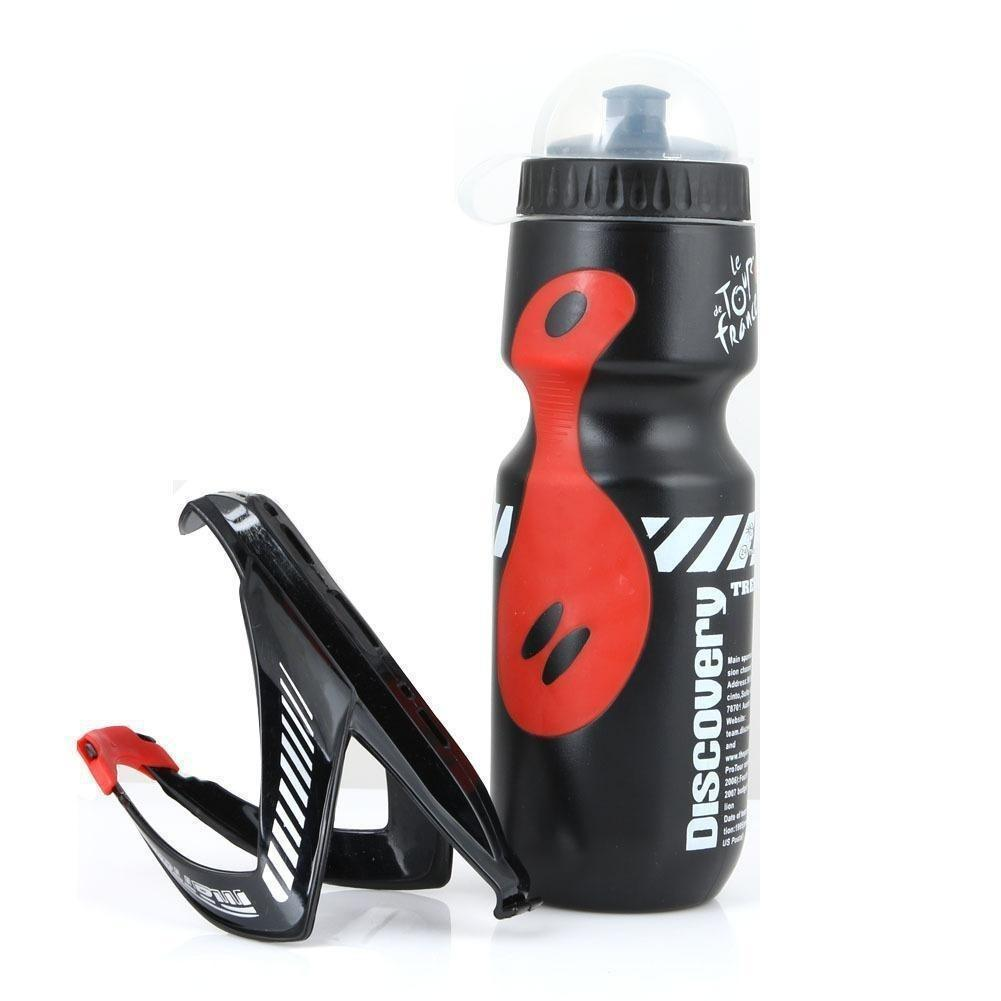gym bottle: (487, 79, 764, 918)
